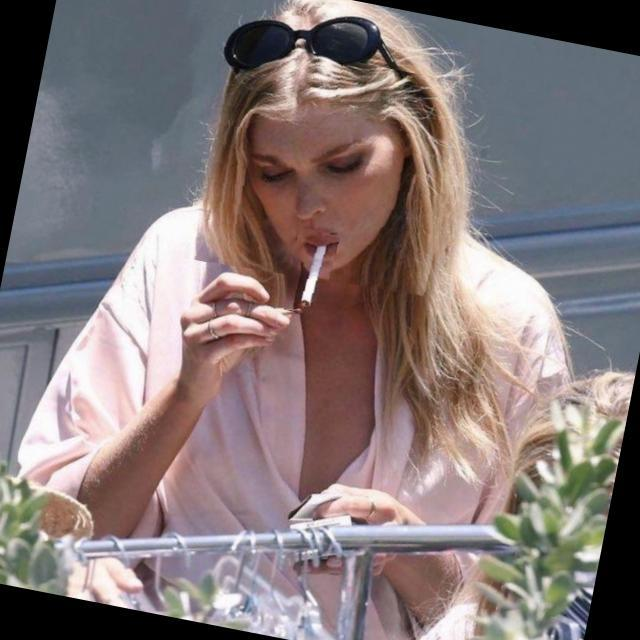cigarette: (283, 227, 341, 318)
